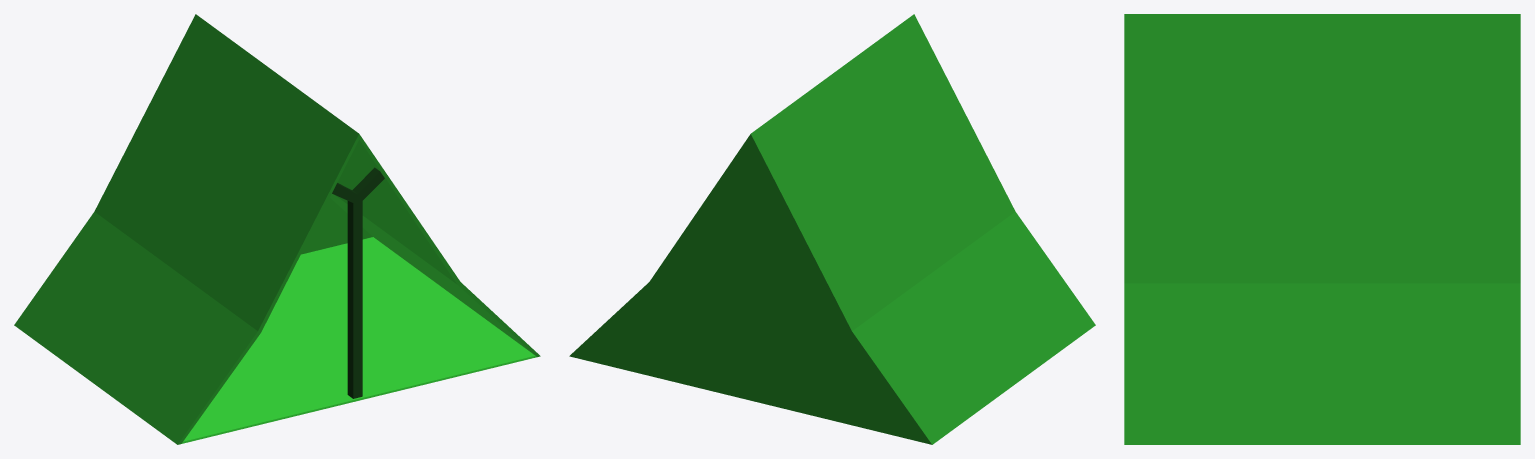
File: Tent_1_Green.fbx
3 renders of one model, left to right at view 1: azimuth 30°, elevation 25°; view 2: azimuth 150°, elevation 25°; view 3: azimuth 270°, elevation 25°, orthographic. The views are drawn at different scales.
Parts seen in each view (by area): view 1: Tent_1_Green_Part_3, Tent_1_Green_Part_1, Tent_1_Green_Part_2, Tent_1_Green_Part_5, Tent_1_Green_Part_7, Tent_1_Green_Part_4, Tent_1_Green_Part_6; view 2: Tent_1_Green_Part_3, Tent_1_Green_Part_6, Tent_1_Green_Part_2, Tent_1_Green_Part_5; view 3: Tent_1_Green_Part_5, Tent_1_Green_Part_4.
Boxes of the visible parts, x1=… form: Tent_1_Green_Part_3: x1=94, y1=14, x2=359, y2=332; Tent_1_Green_Part_1: x1=181, y1=237, x2=536, y2=443; Tent_1_Green_Part_2: x1=14, y1=212, x2=260, y2=444; Tent_1_Green_Part_5: x1=335, y1=134, x2=460, y2=284; Tent_1_Green_Part_7: x1=332, y1=167, x2=384, y2=398; Tent_1_Green_Part_4: x1=330, y1=194, x2=540, y2=357; Tent_1_Green_Part_6: x1=301, y1=198, x2=372, y2=254; Tent_1_Green_Part_3: x1=750, y1=14, x2=1015, y2=332; Tent_1_Green_Part_6: x1=573, y1=140, x2=928, y2=443; Tent_1_Green_Part_2: x1=849, y1=212, x2=1095, y2=444; Tent_1_Green_Part_5: x1=649, y1=134, x2=750, y2=284; Tent_1_Green_Part_5: x1=1124, y1=14, x2=1520, y2=283; Tent_1_Green_Part_4: x1=1124, y1=283, x2=1520, y2=444.
Bounding box in the file's own units: 192 × 135 × 150.
